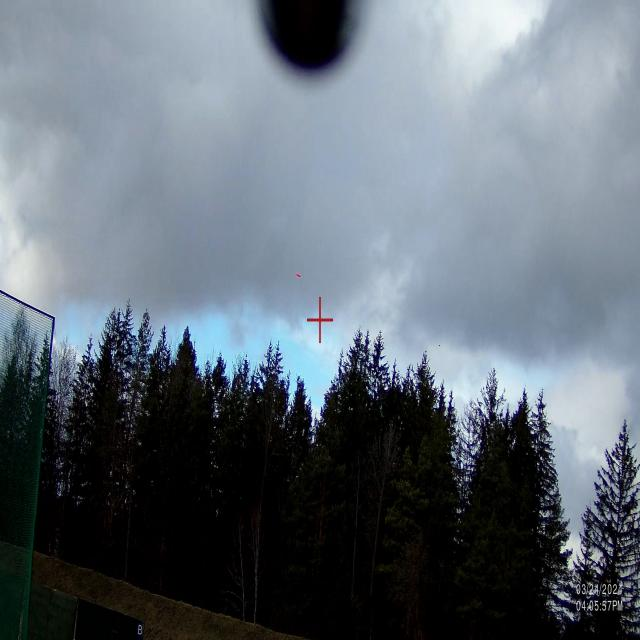entire: (294, 267, 304, 284)
